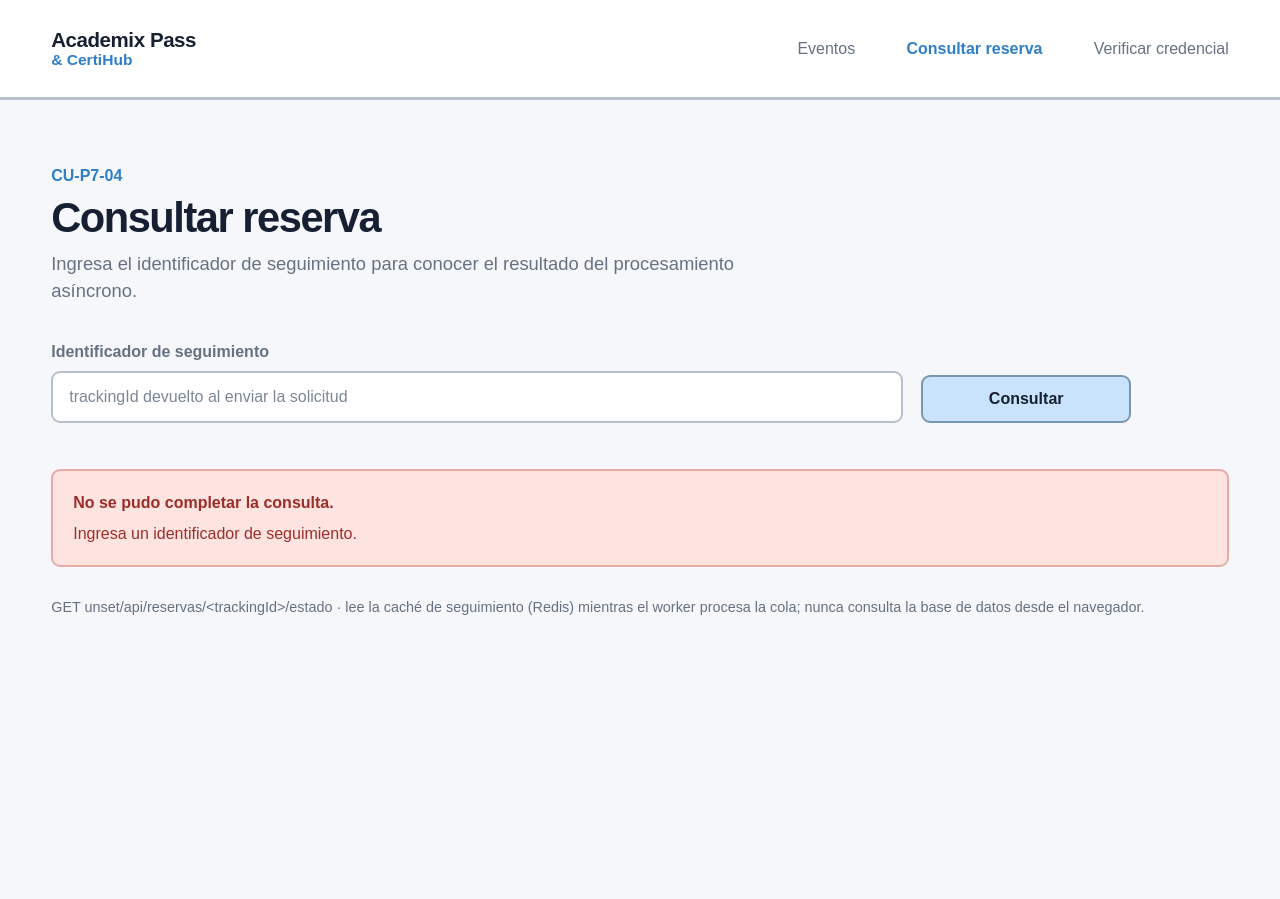
Test: Consulta del seguimiento de una reserva › permite consultar un identificador escrito a mano
The image size is (1280, 899).
Type "TRK-9" into the field labelled "Identificador de seguimiento" at (477, 396), box [51, 370, 903, 422]
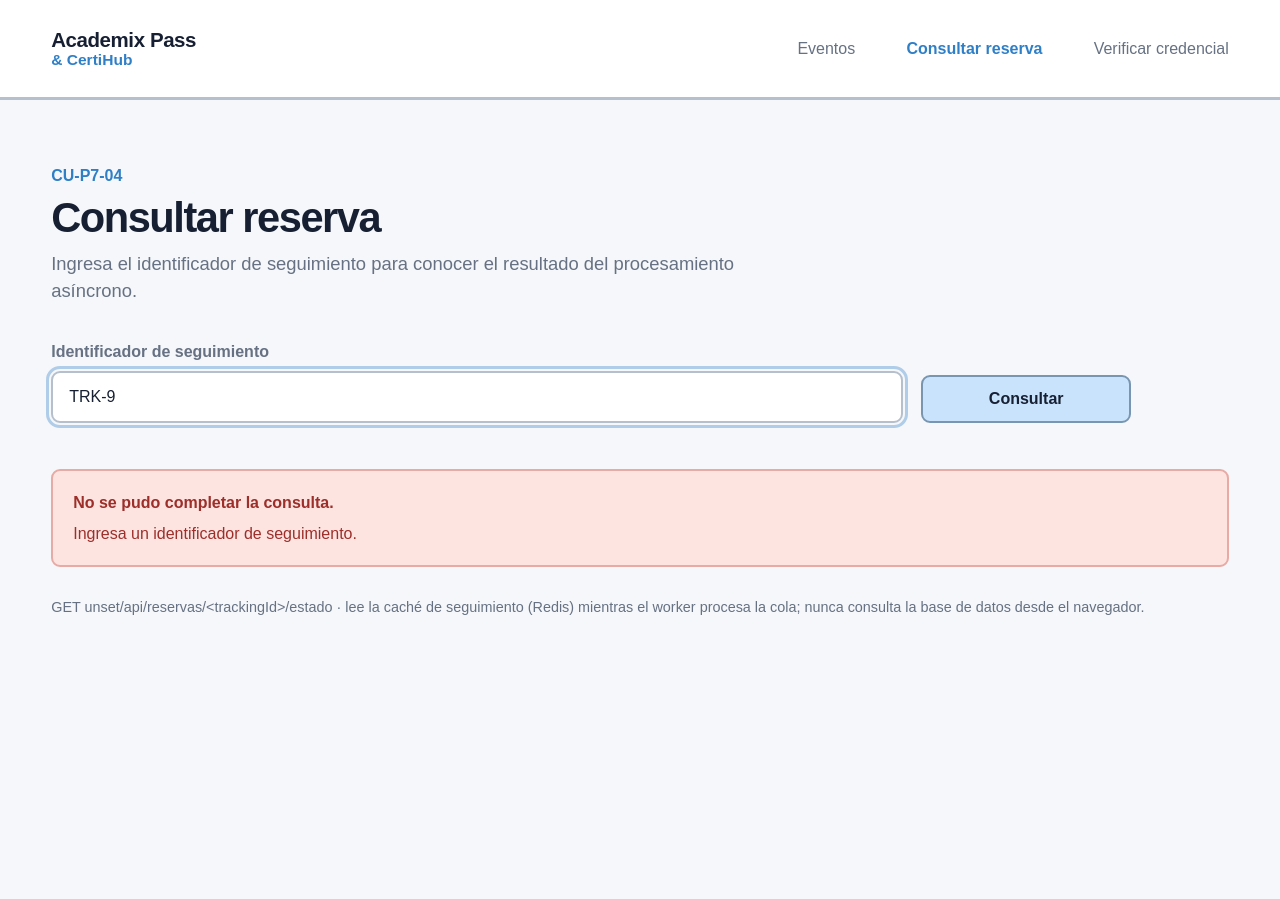
Click the button "Consultar" at (1026, 398), box [921, 374, 1131, 422]
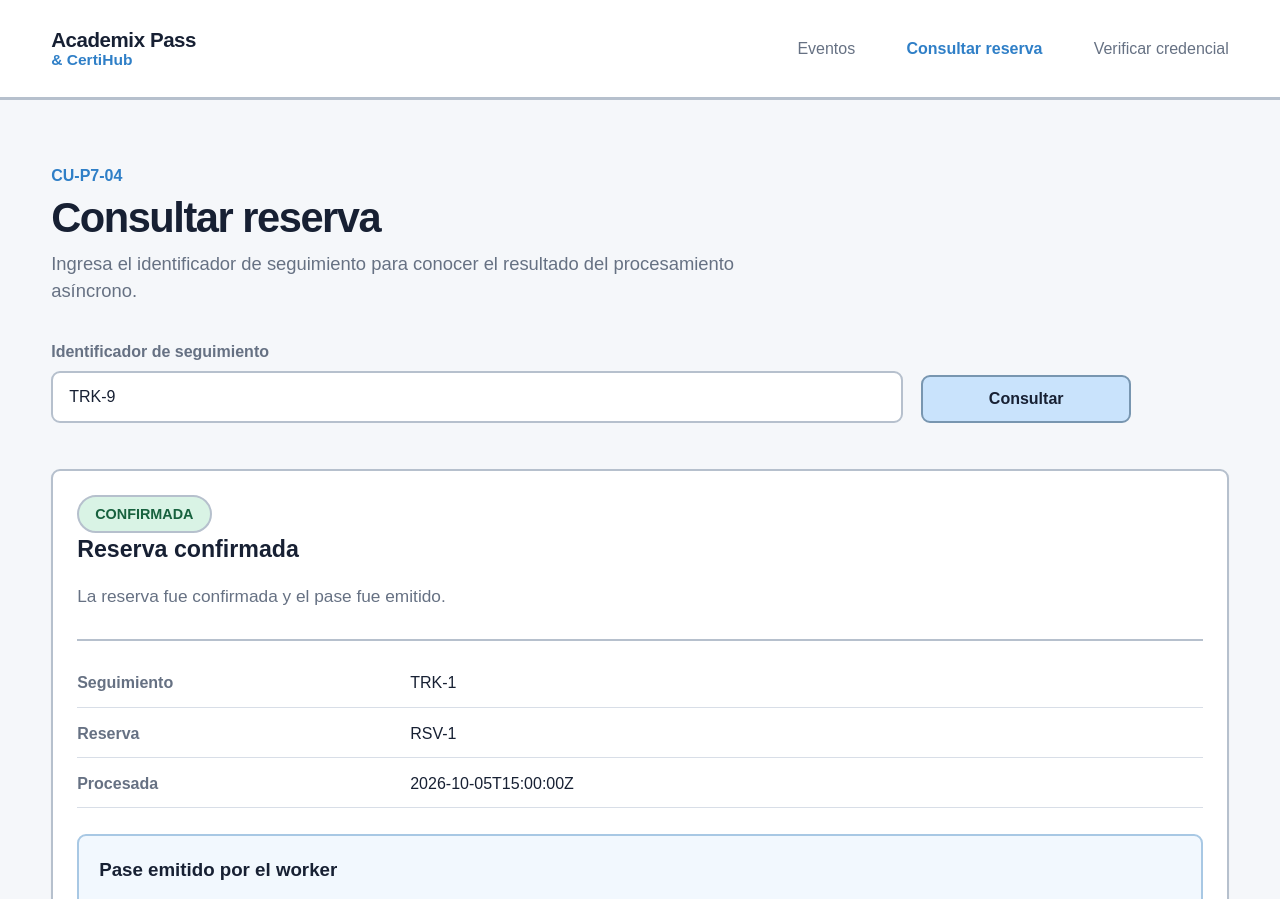
Now the heading "Reserva confirmada" is shown, box [77, 536, 299, 562]
